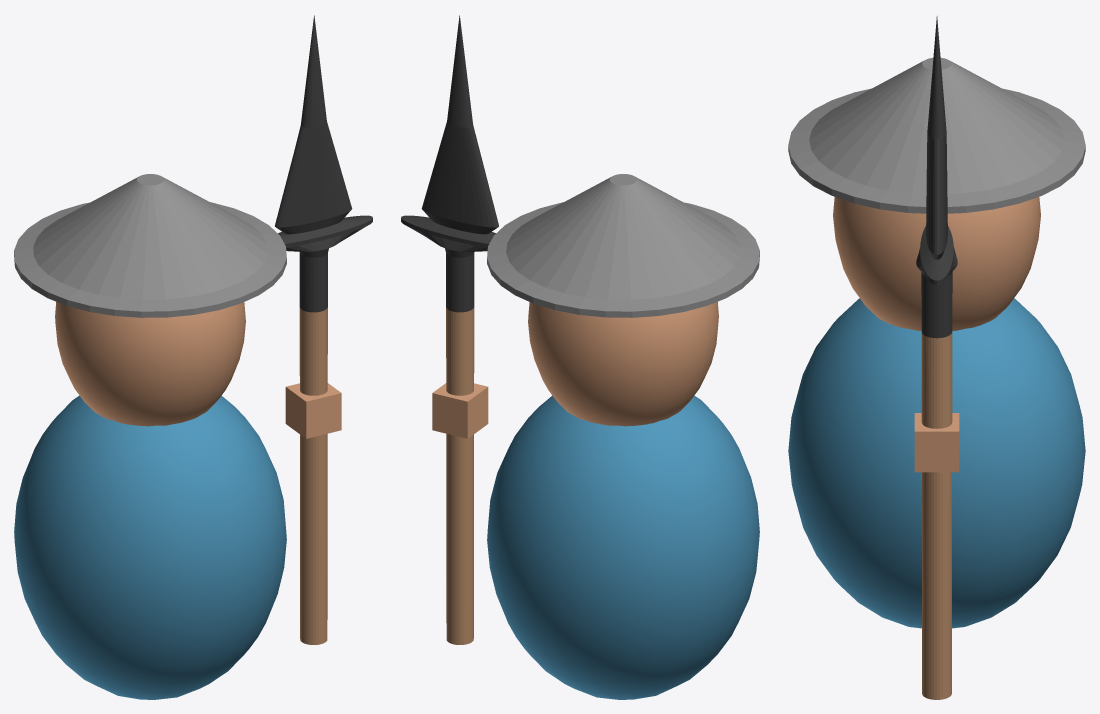
The model's file is Unit_Blue.fbx.
3 renders of one model, left to right at view 1: azimuth 30°, elevation 25°; view 2: azimuth 150°, elevation 25°; view 3: azimuth 270°, elevation 25°, orthographic. The views are drawn at different scales.
Visible parts, largest first — view 1: Unit; view 2: Unit; view 3: Unit.
Boxes of the visible parts, x1,y1,x2,y2 form: Unit: (14, 15, 372, 699); Unit: (401, 15, 759, 699); Unit: (788, 16, 1085, 699).
Bounding box in the file's own units: 1.44 × 2.57 × 1.
